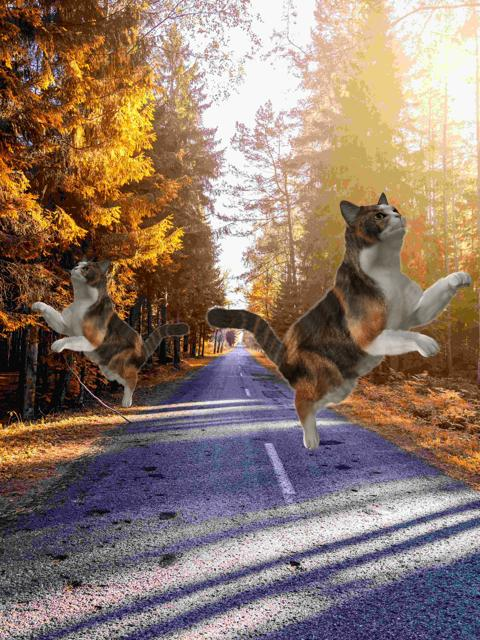cat: (198, 192, 474, 449), (33, 251, 188, 409)
